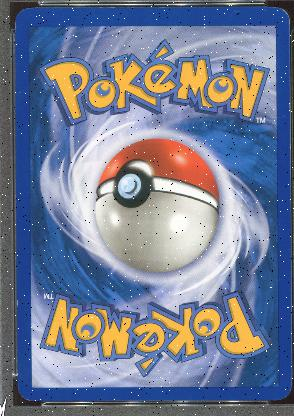Card: (12, 6, 291, 405)
Corner Wear: (16, 382, 30, 402), (281, 9, 290, 25), (282, 386, 290, 398)
Edge Wear: (126, 6, 170, 7), (287, 139, 289, 156), (96, 6, 114, 7), (16, 298, 18, 306), (288, 101, 289, 117), (14, 21, 15, 34), (269, 400, 279, 401), (31, 8, 40, 8)
Scratch: (226, 10, 237, 18), (262, 8, 265, 12)
